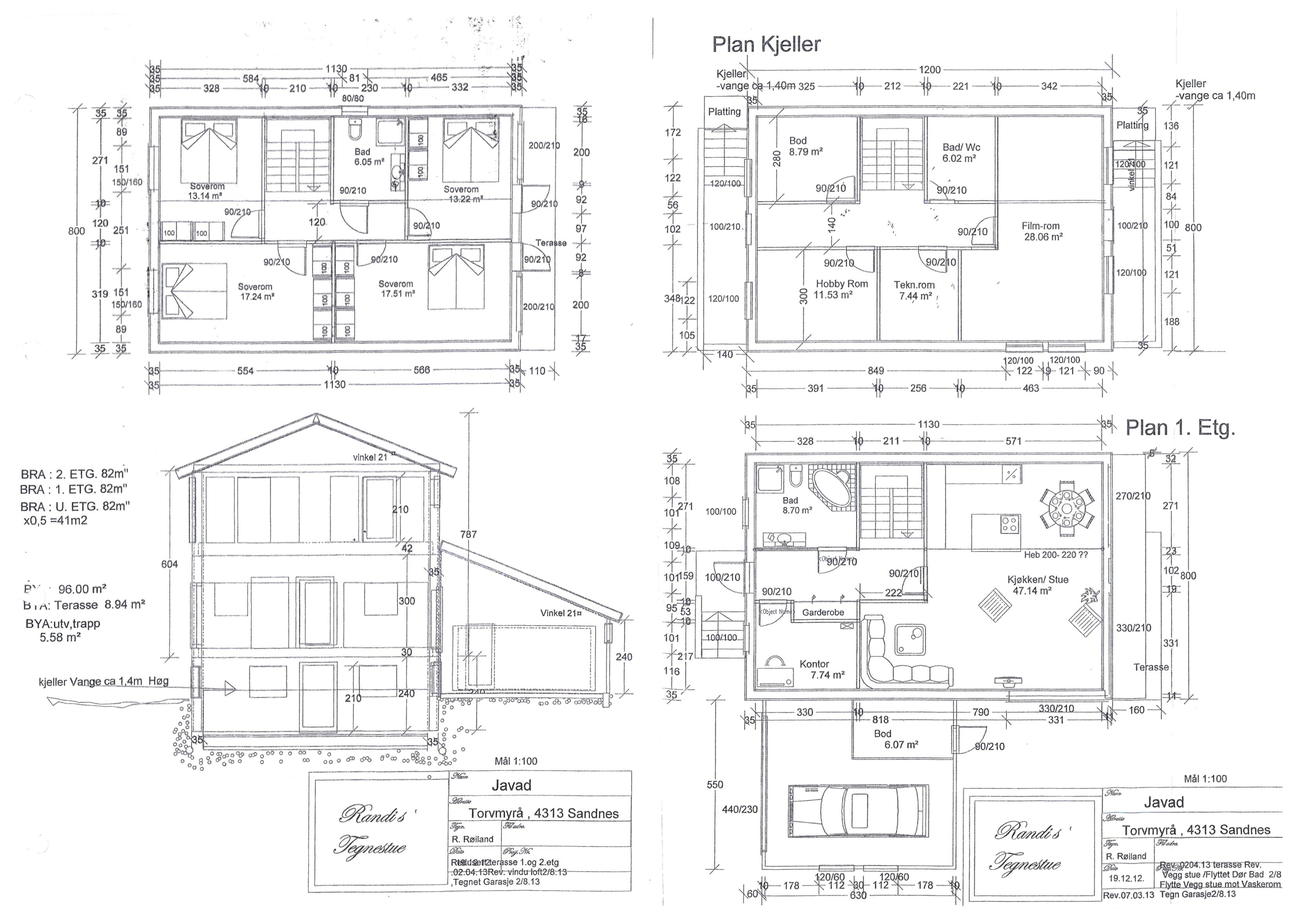plantegning: (696, 94, 1161, 358), (695, 448, 1118, 704), (148, 107, 554, 354), (757, 700, 989, 874)
snitt: (163, 410, 630, 773)
